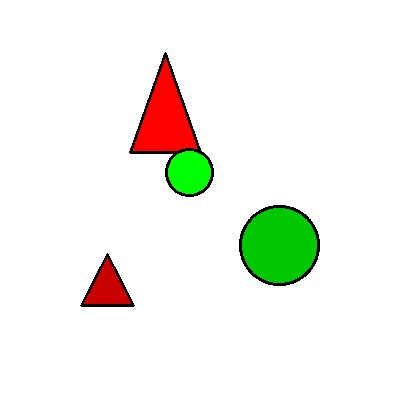circle: (240, 196, 319, 294), (166, 139, 213, 205)
triangle: (130, 53, 200, 152), (81, 254, 133, 305)
